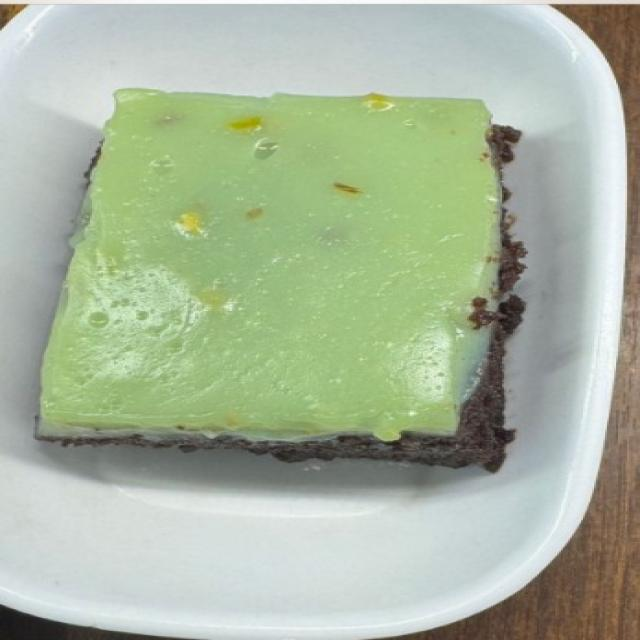yan_yemek: (31, 84, 528, 470)
